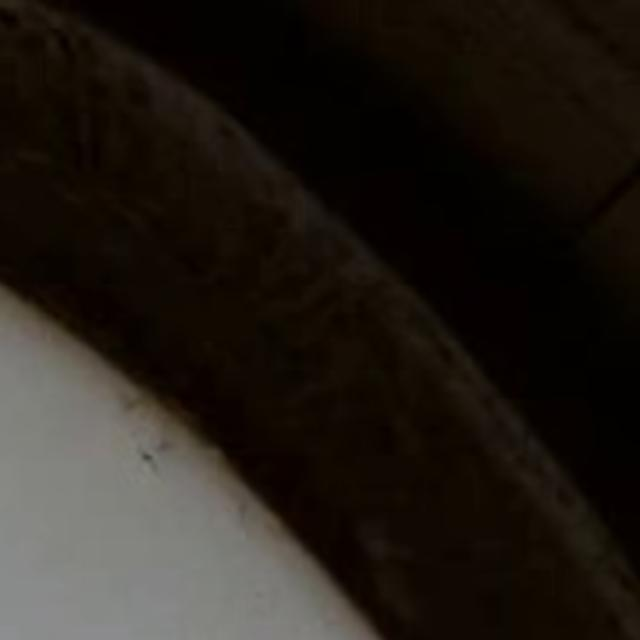shrimp-seed: (129, 443, 167, 489)
